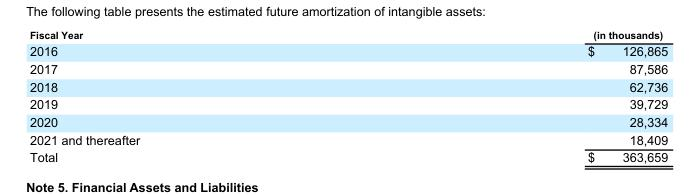table: (28, 29, 667, 164)
table column: (28, 29, 363, 164), (363, 29, 667, 164)
table column header: (28, 29, 667, 42)
table row: (28, 59, 667, 77), (28, 77, 667, 95), (28, 112, 667, 130), (28, 130, 667, 148), (28, 42, 667, 59), (28, 95, 667, 112), (28, 148, 667, 164), (28, 29, 667, 42)
